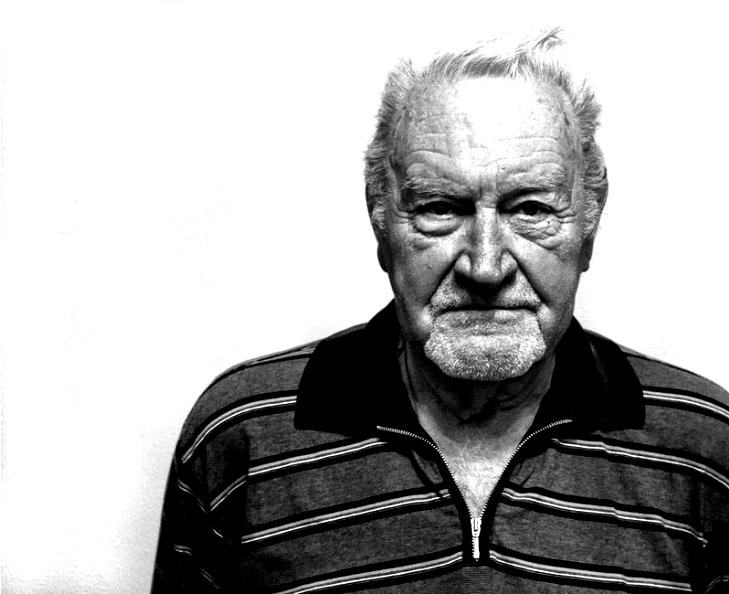face: (390, 83, 581, 381)
